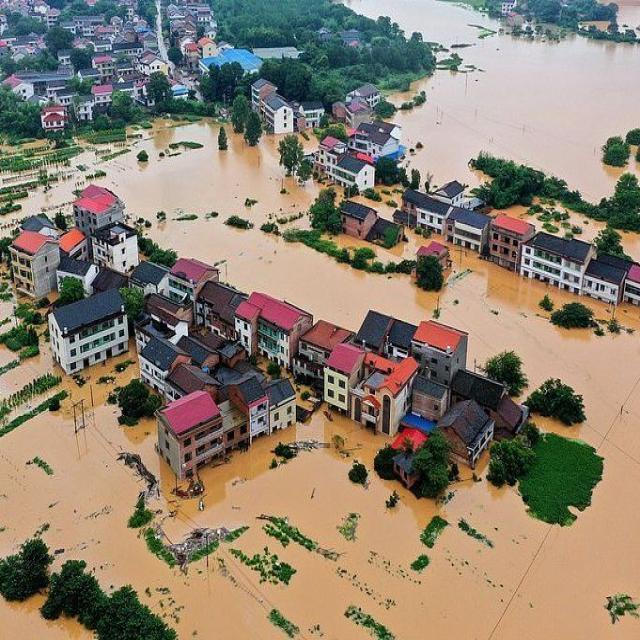flood: (0, 120, 640, 640), (350, 0, 640, 200), (0, 596, 94, 640)
house: (51, 277, 129, 375), (246, 284, 313, 375), (158, 391, 223, 480), (355, 353, 420, 439), (522, 229, 592, 294), (439, 400, 494, 474), (486, 209, 542, 278), (10, 223, 60, 299), (230, 371, 278, 448), (416, 316, 470, 376), (298, 320, 348, 384), (198, 278, 248, 336), (454, 363, 510, 413), (354, 305, 408, 356), (74, 182, 125, 236), (584, 247, 630, 304), (96, 224, 140, 273), (134, 338, 172, 392), (448, 204, 487, 256), (171, 252, 218, 295), (170, 356, 218, 398), (408, 186, 449, 233), (414, 236, 448, 292), (332, 149, 372, 196), (326, 347, 350, 418), (414, 372, 450, 418), (268, 379, 301, 428), (339, 197, 377, 239), (368, 217, 404, 251), (264, 97, 294, 133), (611, 0, 640, 37), (58, 227, 89, 261), (88, 82, 115, 113), (623, 260, 640, 307), (4, 72, 32, 98), (301, 99, 324, 130), (40, 105, 66, 131), (75, 16, 104, 39), (357, 83, 382, 107), (373, 130, 399, 153), (440, 181, 466, 202), (253, 79, 276, 102), (93, 56, 117, 78), (198, 36, 216, 60), (144, 56, 169, 73), (113, 42, 144, 54)
